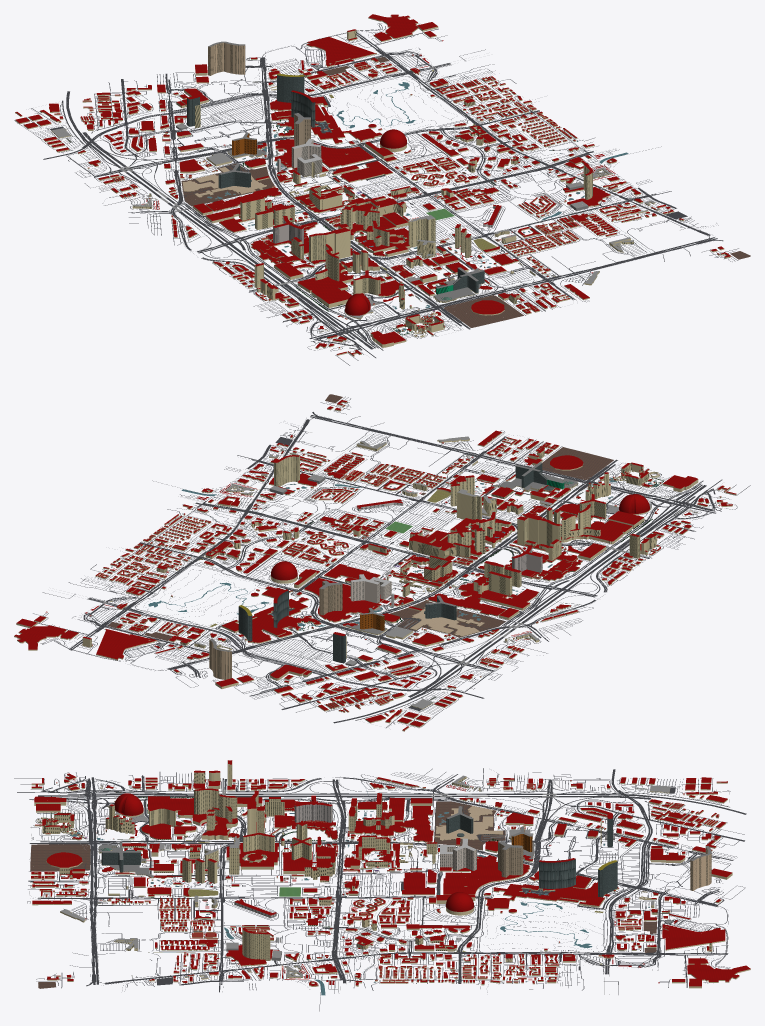
File: las-vegas.glb
The picture shows the model from 3 angles, top to bottom: view 1: azimuth 30°, elevation 25°; view 2: azimuth 150°, elevation 25°; view 3: azimuth 270°, elevation 25°; orthographic projection. The views are drawn at different scales.
Visible parts, largest first — view 1: cell_-1_0, cell_-1_1, cell_-1_-1, cell_0_-2, cell_0_-1, cell_-1_-2, cell_0_0, cell_0_1, cell_-2_1, cell_1_-1, cell_-2_-1, cell_-2_0 (+9 smaller); view 2: cell_-1_-1, cell_-1_0, cell_-1_1, cell_0_-2, cell_-1_-2, cell_0_0, cell_0_-1, cell_0_1, cell_-2_1, cell_1_-1, cell_-2_0, cell_-2_-1 (+9 smaller); view 3: cell_-1_0, cell_-1_1, cell_-1_-1, cell_0_-2, cell_0_-1, cell_0_0, cell_0_1, cell_-1_-2, cell_1_0, cell_1_-1, cell_-2_-1, cell_-2_1 (+11 smaller).
Part boxes in pixels (bbox=[...]): cell_-1_0: bbox=[238, 189, 454, 273]; cell_-1_1: bbox=[323, 226, 532, 334]; cell_-1_-1: bbox=[171, 113, 377, 221]; cell_0_-2: bbox=[222, 37, 431, 127]; cell_0_-1: bbox=[311, 101, 508, 186]; cell_-1_-2: bbox=[85, 76, 293, 163]; cell_0_0: bbox=[377, 156, 588, 243]; cell_0_1: bbox=[456, 212, 650, 301]; cell_-2_1: bbox=[253, 270, 392, 350]; cell_1_-1: bbox=[438, 79, 577, 154]; cell_-2_-1: bbox=[86, 163, 242, 238]; cell_-2_0: bbox=[173, 206, 315, 293]; cell_-1_-1: bbox=[300, 564, 515, 651]; cell_-1_0: bbox=[380, 489, 586, 593]; cell_-1_1: bbox=[454, 449, 662, 536]; cell_0_-2: bbox=[92, 588, 301, 672]; cell_-1_-2: bbox=[235, 618, 435, 707]; cell_0_0: bbox=[246, 474, 452, 562]; cell_0_-1: bbox=[171, 531, 372, 618]; cell_0_1: bbox=[321, 431, 530, 506]; cell_-2_1: bbox=[583, 477, 737, 555]; cell_1_-1: bbox=[91, 514, 245, 585]; cell_-2_0: bbox=[510, 534, 652, 611]; cell_-2_-1: bbox=[432, 577, 582, 671]; cell_-1_0: bbox=[215, 789, 386, 883]; cell_-1_1: bbox=[31, 788, 226, 885]; cell_-1_-1: bbox=[372, 793, 541, 887]; cell_0_-2: bbox=[528, 854, 724, 952]; cell_0_-1: bbox=[378, 860, 545, 951]; cell_0_0: bbox=[216, 876, 380, 956]; cell_0_1: bbox=[36, 859, 219, 959]; cell_-1_-2: bbox=[538, 810, 711, 881]; cell_1_0: bbox=[217, 889, 379, 1011]; cell_1_-1: bbox=[378, 944, 542, 992]; cell_-2_-1: bbox=[369, 768, 542, 816]; cell_-2_1: bbox=[37, 770, 220, 814].
Size of the model in its own units: 3566 by 206 by 4558.
32 materials, 32 textured.
